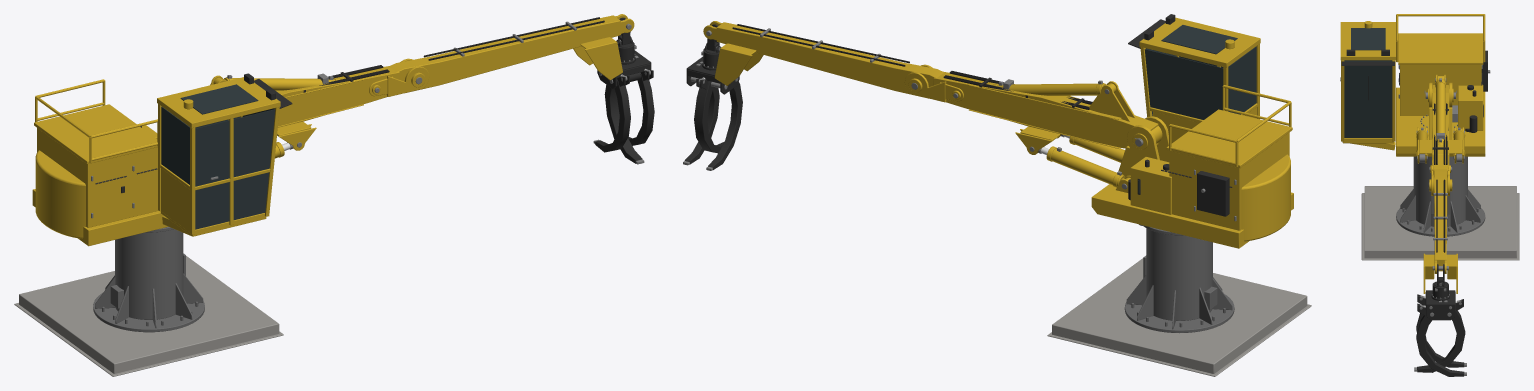
File: knuckle_boom_loader.glb
3 views of the same model, side by side, from view 1: azimuth 30°, elevation 25°; view 2: azimuth 150°, elevation 25°; view 3: azimuth 270°, elevation 25° (orthographic). The views are drawn at different scales.
Visible parts, largest first — view 1: KBL_Pad, KBL_CabGlass, KBL_PowerUnit, KBL_Pedestal, KBL_Cab, KBL_StickMesh, KBL_BoomMesh, KBL_Counterweight, KBL_TongBMesh, KBL_TurretFrame, KBL_Handrails, KBL_StickHoses (+3 smaller); view 2: KBL_Pad, KBL_PowerUnit, KBL_BoomMesh, KBL_Pedestal, KBL_CabGlass, KBL_StickMesh, KBL_TurretFrame, KBL_Cab, KBL_Counterweight, KBL_HydTank, KBL_TongBMesh, KBL_Handrails (+7 smaller); view 3: KBL_Pad, KBL_PowerUnit, KBL_CabGlass, KBL_Pedestal, KBL_Cab, KBL_TurretFrame, KBL_StickMesh, KBL_BoomMesh, KBL_HydTank, KBL_TongBMesh, KBL_TongAMesh, KBL_HeadMesh (+7 smaller).
Boxes of the visible parts, x1,y1,x2,y2 form: KBL_Pad: [14, 256, 283, 376]; KBL_CabGlass: [161, 84, 275, 229]; KBL_PowerUnit: [34, 104, 158, 227]; KBL_Pedestal: [93, 226, 204, 332]; KBL_Cab: [157, 73, 292, 236]; KBL_StickMesh: [369, 14, 634, 96]; KBL_BoomMesh: [210, 58, 429, 150]; KBL_Counterweight: [35, 150, 85, 238]; KBL_TongBMesh: [593, 70, 654, 152]; KBL_TurretFrame: [32, 189, 168, 246]; KBL_Handrails: [35, 79, 157, 162]; KBL_StickHoses: [423, 17, 604, 60]; KBL_Pad: [1047, 258, 1311, 376]; KBL_PowerUnit: [1161, 109, 1292, 230]; KBL_BoomMesh: [904, 64, 1162, 154]; KBL_Pedestal: [1124, 226, 1234, 333]; KBL_CabGlass: [1144, 25, 1256, 119]; KBL_StickMesh: [703, 21, 963, 101]; KBL_TurretFrame: [1091, 116, 1293, 248]; KBL_Cab: [1128, 14, 1260, 143]; KBL_Counterweight: [1241, 154, 1290, 241]; KBL_HydTank: [1128, 157, 1171, 214]; KBL_TongBMesh: [683, 81, 742, 170]; KBL_Handrails: [1169, 85, 1291, 166]; KBL_Pad: [1361, 186, 1519, 260]; KBL_PowerUnit: [1398, 33, 1490, 115]; KBL_CabGlass: [1344, 28, 1392, 137]; KBL_Pedestal: [1396, 156, 1485, 236]; KBL_Cab: [1340, 21, 1395, 150]; KBL_TurretFrame: [1396, 82, 1485, 156]; KBL_StickMesh: [1423, 163, 1457, 293]; KBL_BoomMesh: [1416, 74, 1464, 195]; KBL_HydTank: [1452, 84, 1483, 132]; KBL_TongBMesh: [1416, 294, 1466, 376]; KBL_TongAMesh: [1414, 299, 1465, 372]; KBL_HeadMesh: [1425, 290, 1455, 320].
Size of the model in its own units: 10.13 by 4.11 by 3.3.
